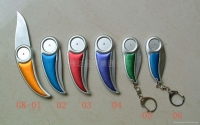knief: (12, 8, 49, 97)
